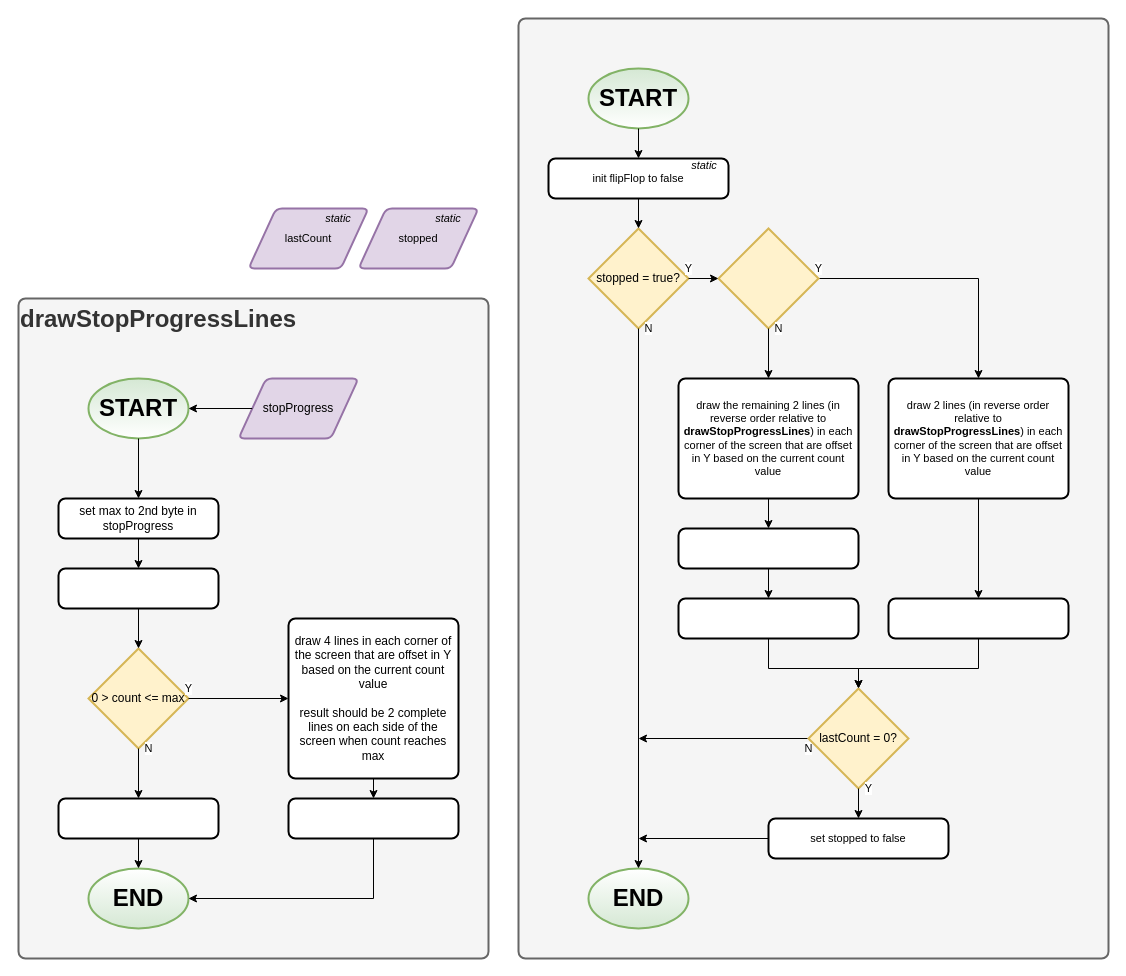
This 1126x976 diagram has some shape labels left out. The shapes that lost their labels are listed below. From the top down, each one's box as (x1, y1, x2, y2) in pixels, then its label:
(717, 227, 819, 329): flipFlop = false?
(517, 17, 1109, 959): eraseStopProgressLines
(677, 527, 859, 569): decrement lastcount
(57, 567, 219, 609): set count to 1st byte in stopProgress
(677, 597, 859, 639): flipFlop = false
(887, 597, 1069, 639): flipFlop = true
(57, 797, 219, 839): set stopped to true
(287, 797, 459, 839): set lastCount to count
